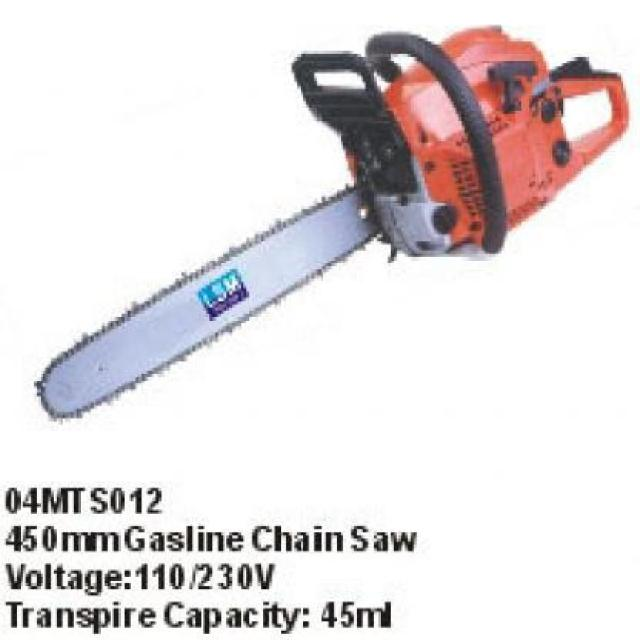Chainsaw: (21, 24, 640, 450)
